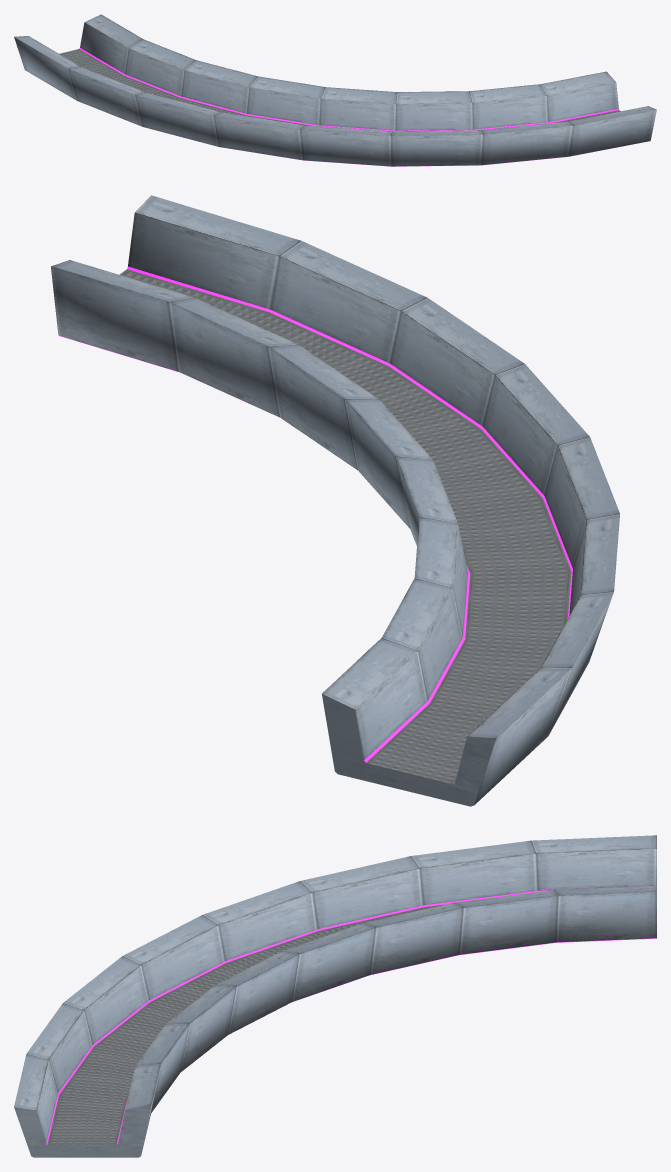
The model's file is HQRing.fbx.
3 renders of one model, top to bottom at view 1: azimuth 30°, elevation 25°; view 2: azimuth 150°, elevation 25°; view 3: azimuth 270°, elevation 25°, orthographic. The views are drawn at different scales.
Visible parts, largest first — view 1: HQRing_LOD0; view 2: HQRing_LOD0; view 3: HQRing_LOD0.
Part boxes in pixels (x1=…): HQRing_LOD0: x1=14, y1=14, x2=656, y2=166; HQRing_LOD0: x1=51, y1=195, x2=619, y2=806; HQRing_LOD0: x1=14, y1=835, x2=656, y2=1157.
Size of what is drawn, in the model's own units: 10920 by 981 by 10920.
Materials: 2 (1 with a texture image).
